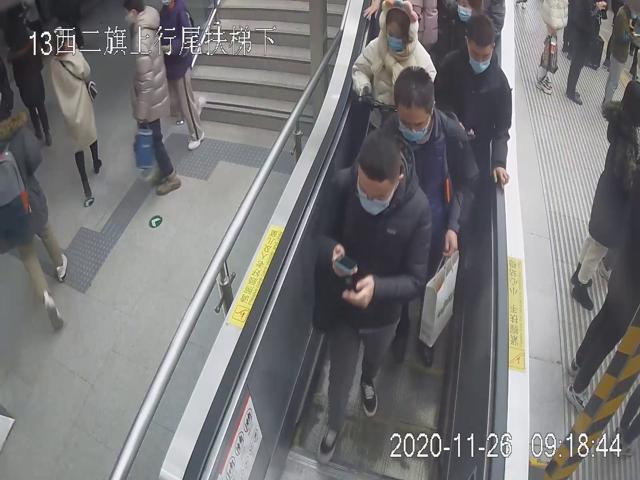person: (311, 132, 433, 461), (379, 61, 480, 372), (432, 10, 515, 199), (352, 0, 438, 135)
